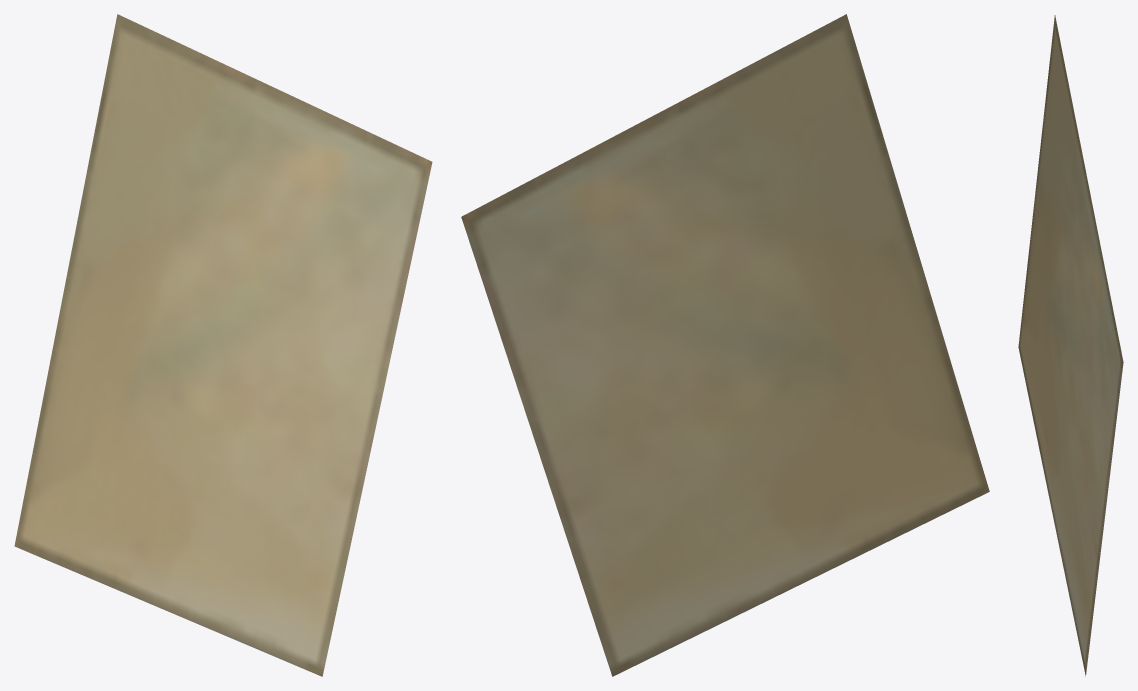
The model's file is wz_shuye_08.FBX.
3 views of the same model, side by side, from view 1: azimuth 30°, elevation 25°; view 2: azimuth 150°, elevation 25°; view 3: azimuth 270°, elevation 25° (orthographic). The views are drawn at different scales.
Visible parts, largest first — view 1: shuye_08; view 2: shuye_08; view 3: shuye_08.
Part boxes in pixels (x1=…): shuye_08: x1=14, y1=14, x2=432, y2=676; shuye_08: x1=461, y1=14, x2=989, y2=676; shuye_08: x1=1018, y1=15, x2=1123, y2=676.
Bounding box in the file's own units: 0.9347 × 1.35 × 0.2229.
